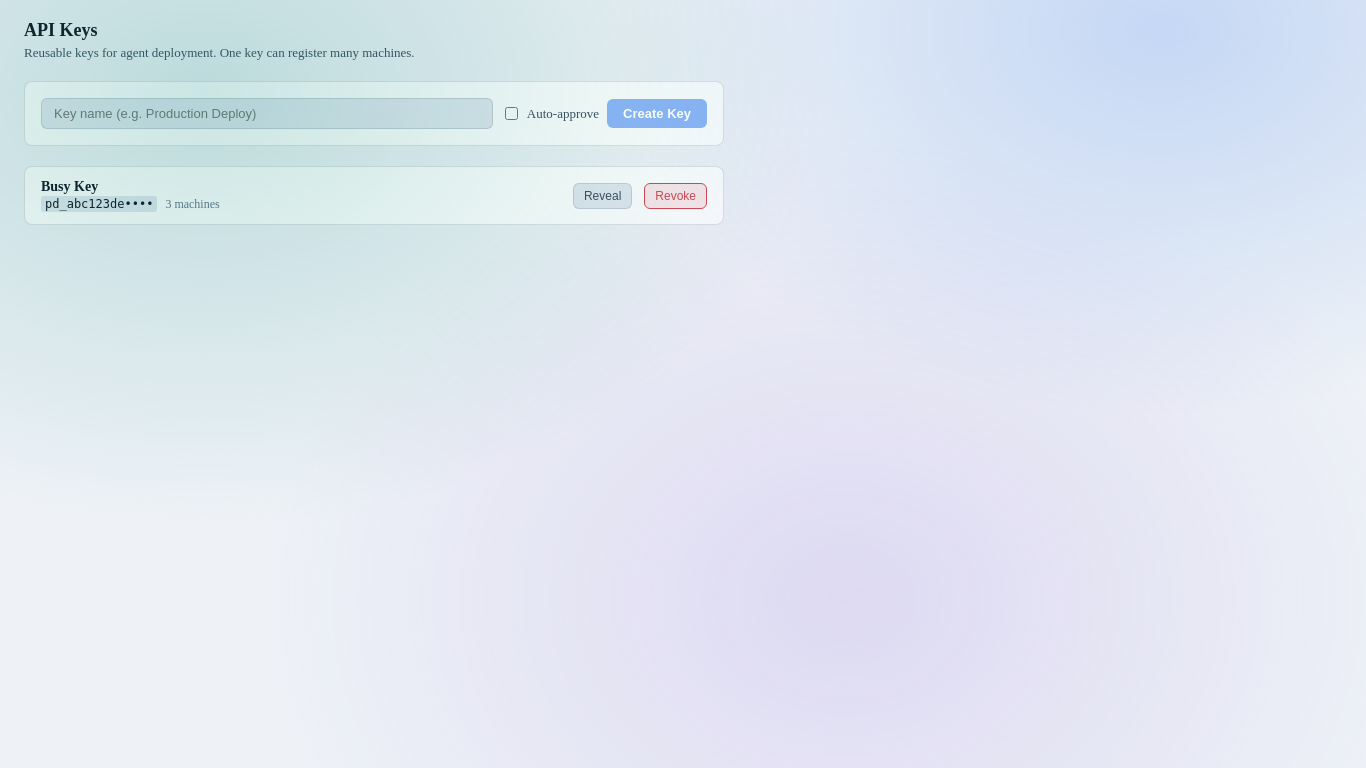
revoking an API key › asks for confirmation and names the machine count
Click the button "Revoke": [676, 196] box [644, 182, 707, 208]
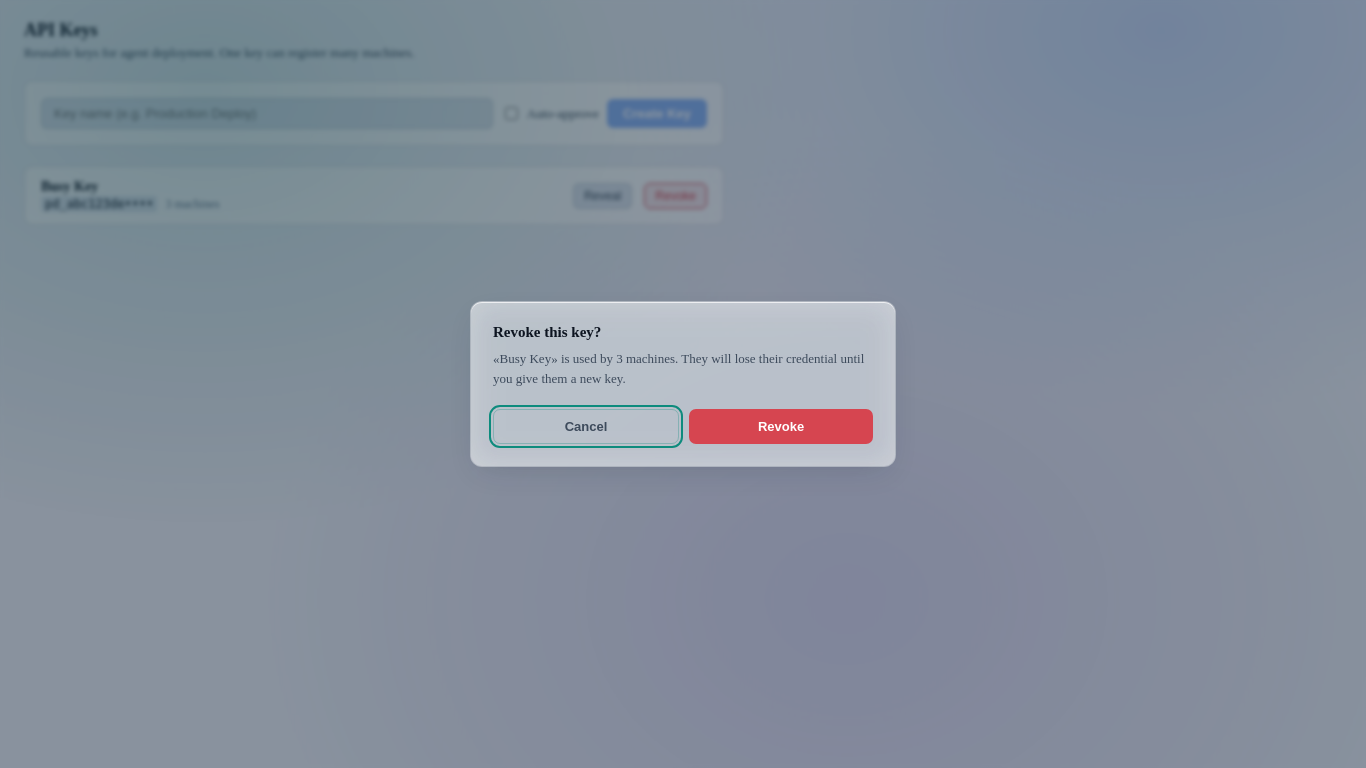
Expected: the dialog is shown, [470, 301, 896, 467]
Expected: the dialog shows "Busy Key", [493, 351, 864, 386]
Expected: the dialog shows "3 machines", [493, 351, 864, 386]
